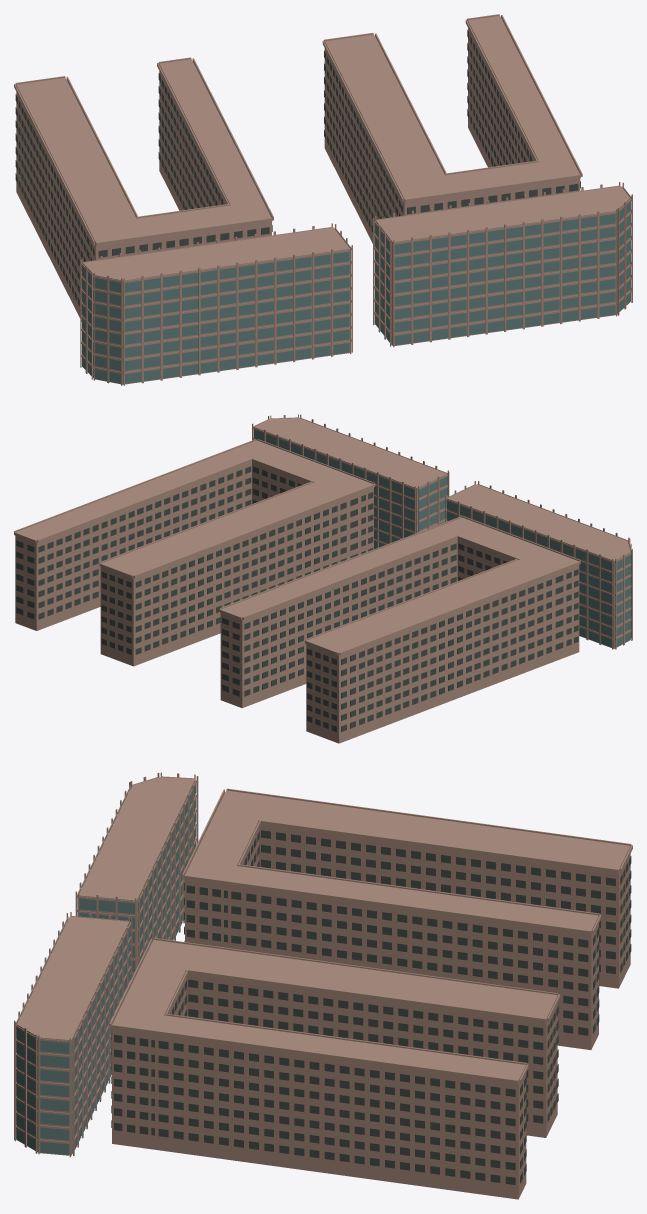
Rendered from bespoke-mokdong-trapalace-podium.glb.
The picture shows the model from 3 angles, top to bottom: view 1: azimuth 30°, elevation 25°; view 2: azimuth 150°, elevation 25°; view 3: azimuth 270°, elevation 25°; orthographic projection. The views are drawn at different scales.
Parts seen in each view (by area): view 1: reddishstone_podium_and_shopfronts, retail_glass_windows002_1, retail_glass_windows002; view 2: reddishstone_podium_and_shopfronts, retail_glass_windows002, retail_glass_windows002_1; view 3: reddishstone_podium_and_shopfronts, retail_glass_windows002, retail_glass_windows002_1.
Part boxes in pixels (x1,y1,x2,y2): reddishstone_podium_and_shopfronts: (14,14,632,385); retail_glass_windows002_1: (82,198,630,383); retail_glass_windows002: (15,30,580,310); reddishstone_podium_and_shopfronts: (14,414,632,743); retail_glass_windows002: (16,466,578,731); retail_glass_windows002_1: (253,429,631,647); reddishstone_podium_and_shopfronts: (14,772,632,1199); retail_glass_windows002: (111,830,631,1184); retail_glass_windows002_1: (16,784,196,1154).
Size of the model in its own units: 158 by 28.6 by 134.
